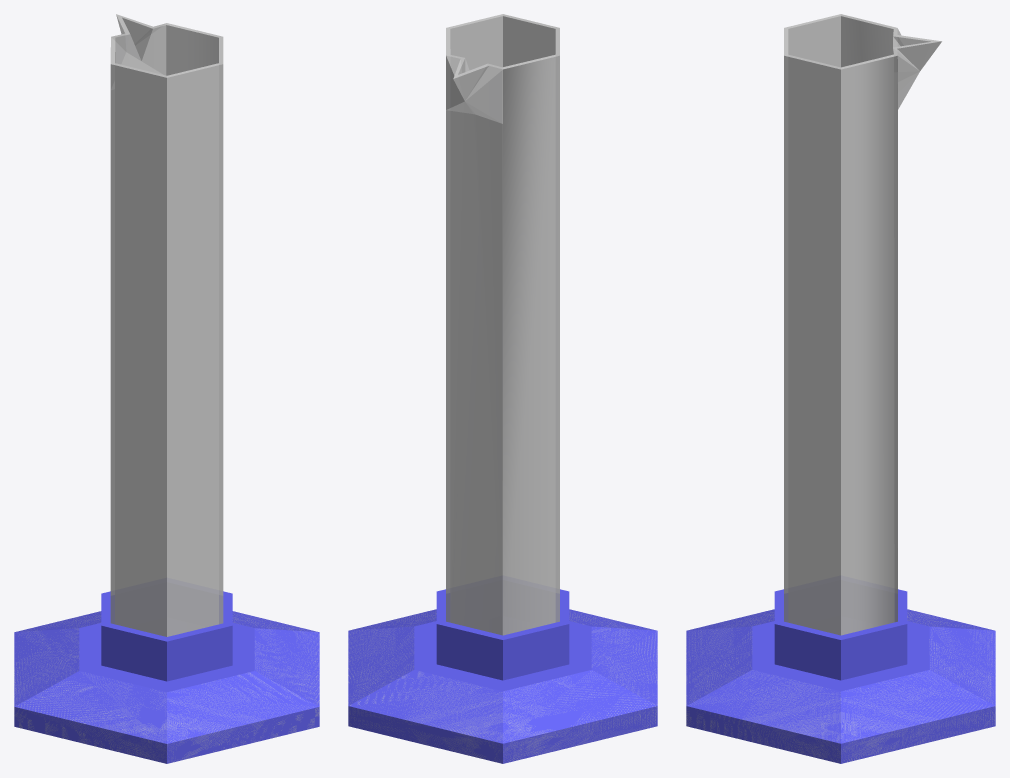
Rendered from MeasuringCylinder.obj.
The picture shows the model from 3 angles, left to right: view 1: azimuth 30°, elevation 25°; view 2: azimuth 150°, elevation 25°; view 3: azimuth 270°, elevation 25°; orthographic projection.
Visible parts, largest first — view 1: Mesh1 Model; view 2: Mesh1 Model; view 3: Mesh1 Model.
Part boxes in pixels (<box>): Mesh1 Model: <box>14,14,319,763</box>; Mesh1 Model: <box>348,14,657,763</box>; Mesh1 Model: <box>686,14,995,763</box>.
Bounding box in the file's own units: 0.08 × 0.16 × 0.0693.
